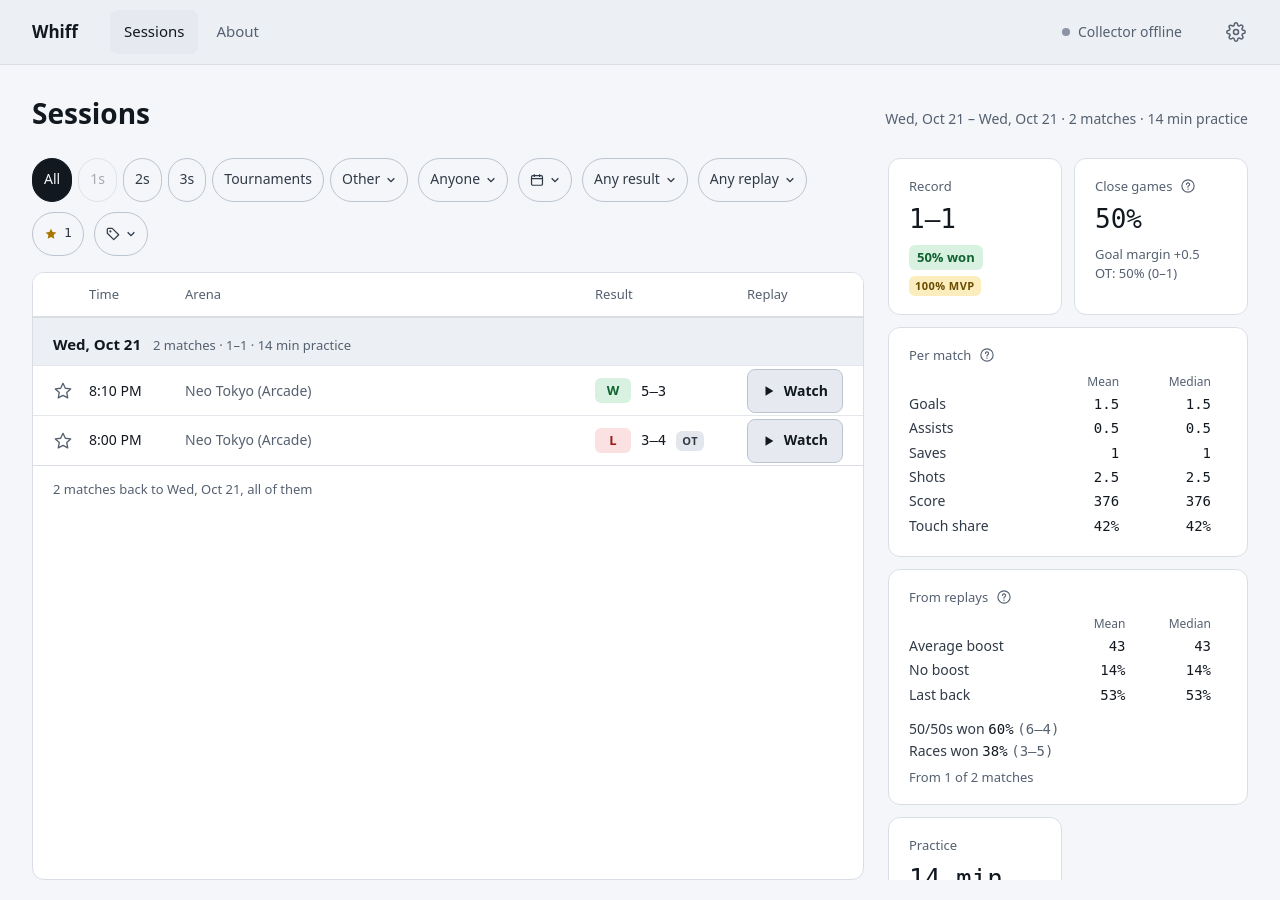
Scenario: stars › the Starred chip lists starred matches only, and turns off when none are
Later steps or results of the test are not shown.
Click the button named "Starred" at (58, 234), box [32,212,84,256]
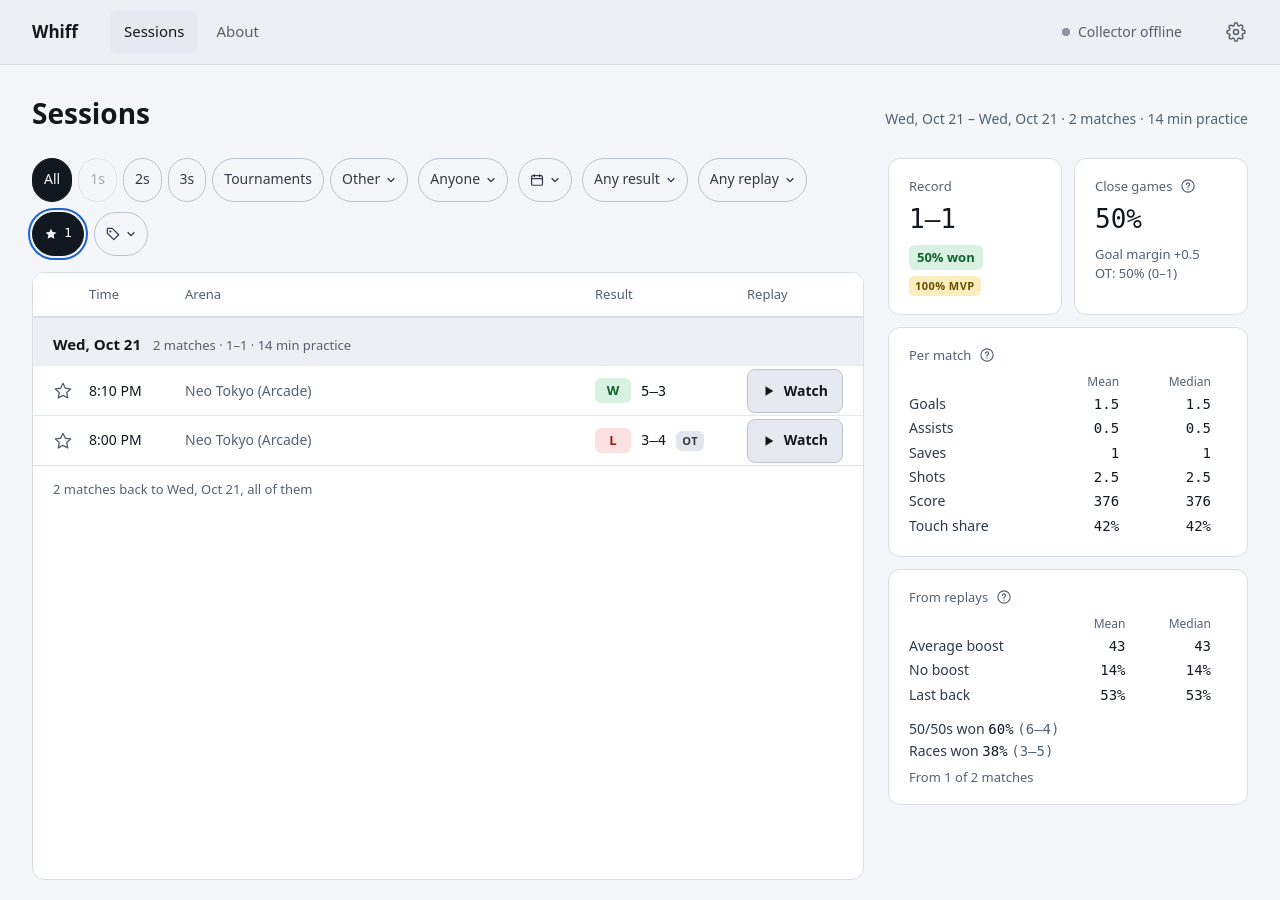
Expected: the button named "Starred" is pressed, [32,212,84,256]
